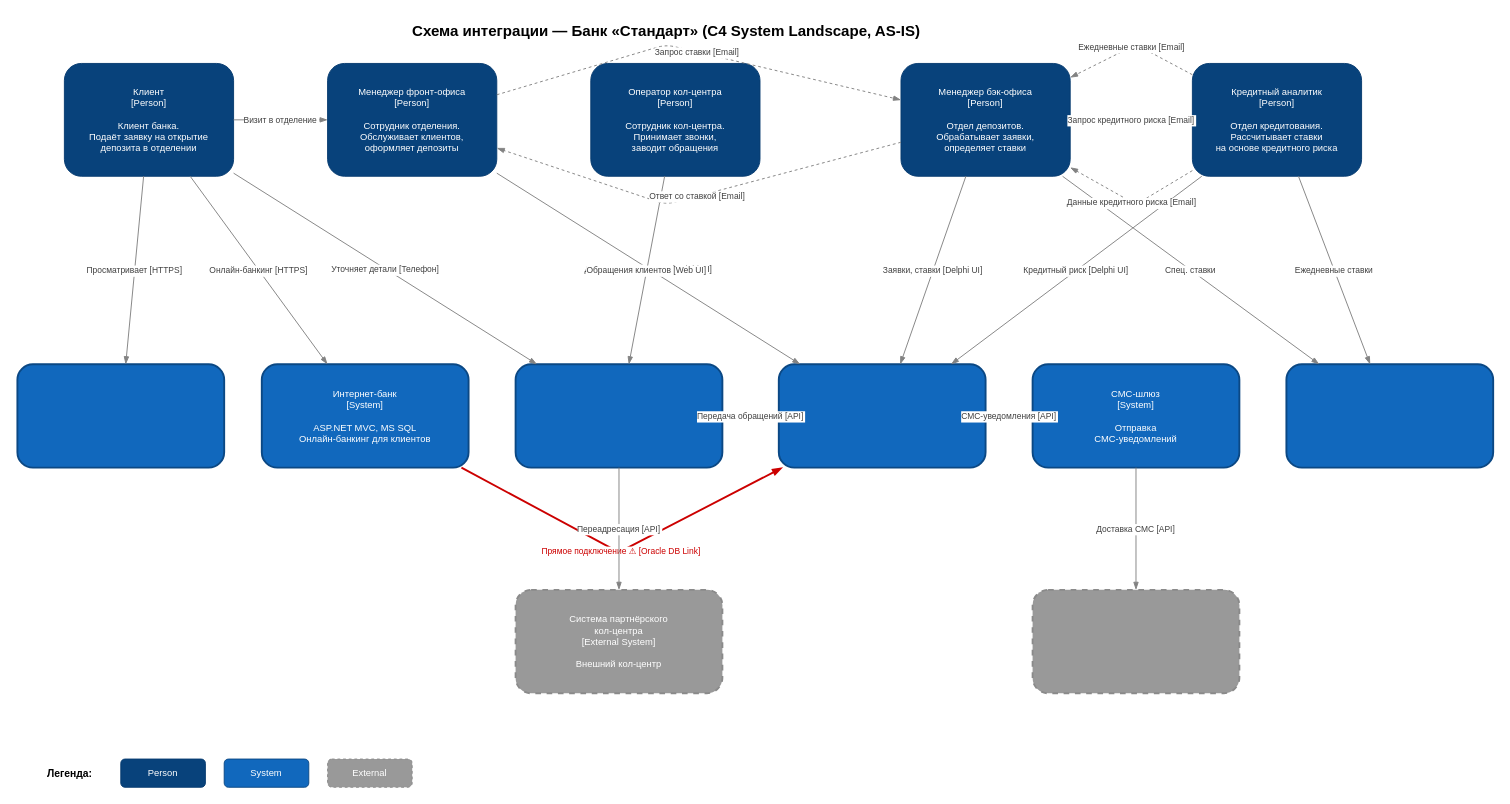
This 1510x804 diagram has some shape labels left out. Each missing label, with the box of its shape:
Excel [System] Spreadsheet Ручной расчёт ставок: (1285, 363, 1494, 468)
АБС [System] Delphi, Oracle DB, PL-SQL Автоматизированная банковская система: (777, 363, 986, 468)
Сайт [System] PHP, React.js Публичный сайт банка: (16, 363, 225, 468)
Система кол-центра [System] Java Spring Boot, PostgreSQL Управление обращениями: (514, 363, 723, 468)
Телеком-оператор [External System] Доставка СМС-сообщений: (1031, 588, 1240, 694)
